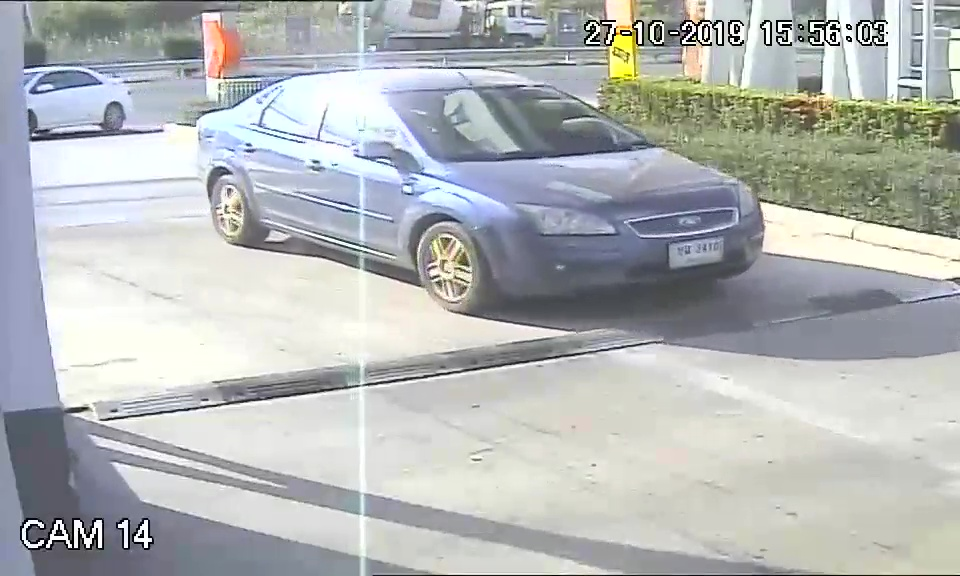sedan: (187, 62, 767, 316)
